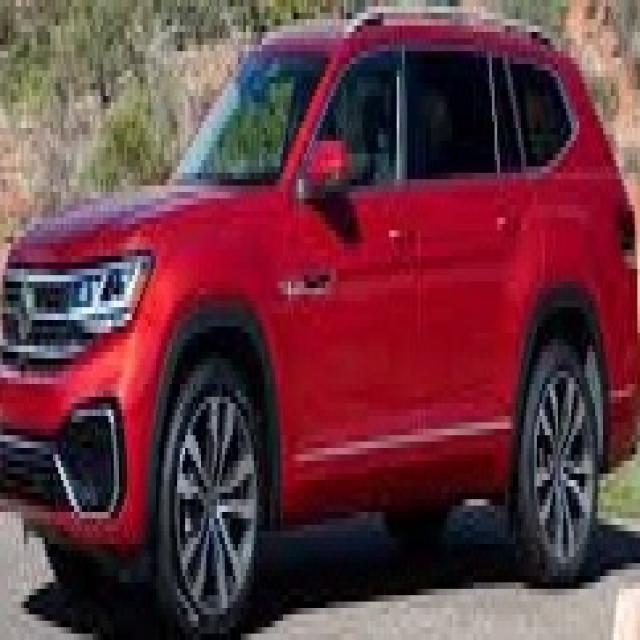red: (1, 29, 633, 518)
